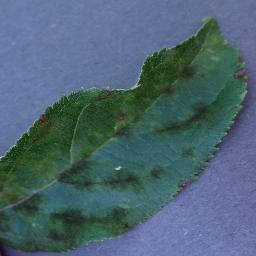apple healthy: (0, 14, 249, 255)
